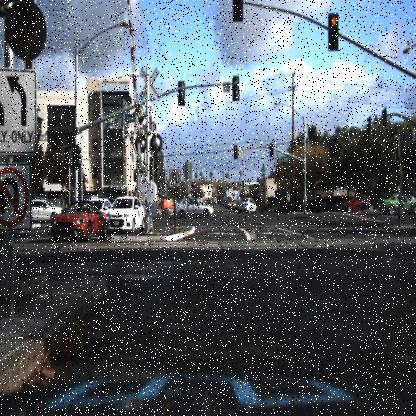car: (47, 202, 110, 244), (106, 192, 145, 236), (171, 197, 215, 221), (73, 198, 102, 232), (362, 191, 404, 214), (376, 194, 416, 217), (344, 192, 374, 215), (235, 193, 261, 216), (188, 194, 206, 216), (330, 195, 352, 213)
trafficLight: (9, 1, 44, 56), (232, 1, 244, 24)
trafficLight-Red: (327, 12, 339, 51), (268, 138, 276, 160), (300, 164, 306, 185), (232, 141, 238, 161), (270, 140, 274, 156)
